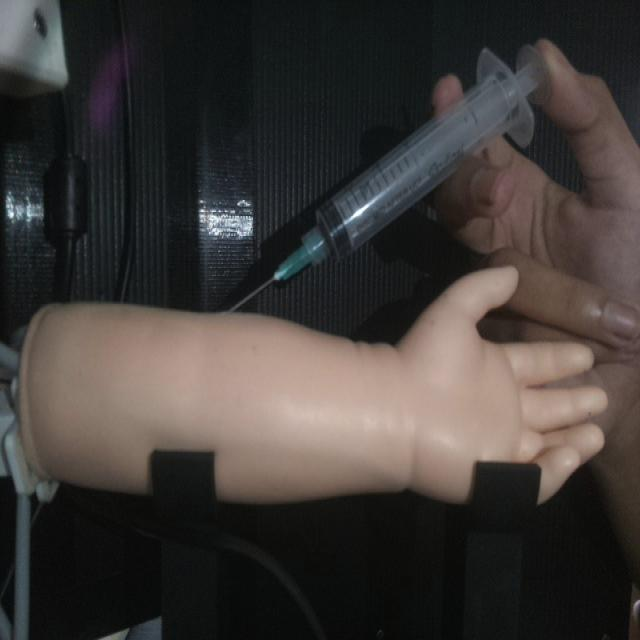Above 30 degrees: (220, 43, 549, 313)
